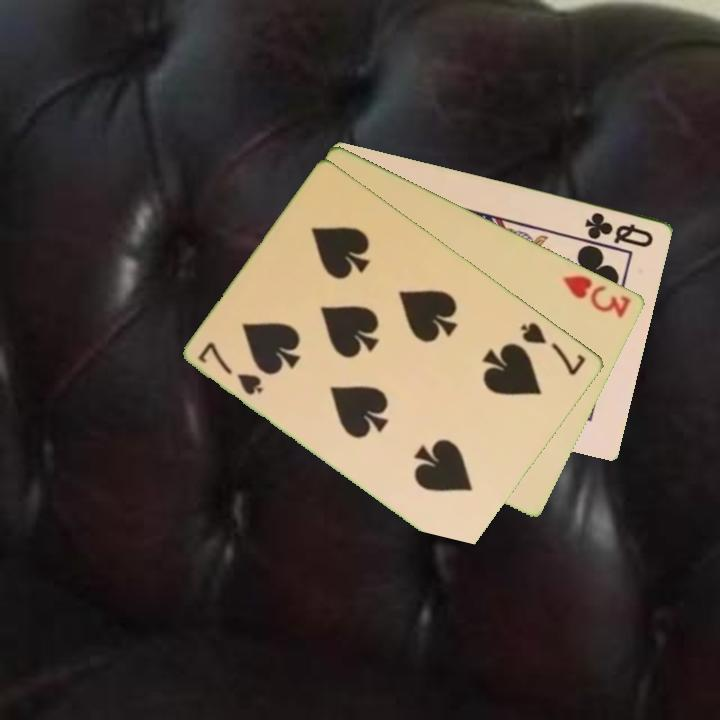3h: (559, 271, 634, 321)
7s: (517, 318, 589, 378), (195, 338, 267, 398)
Qc: (581, 208, 657, 250)
